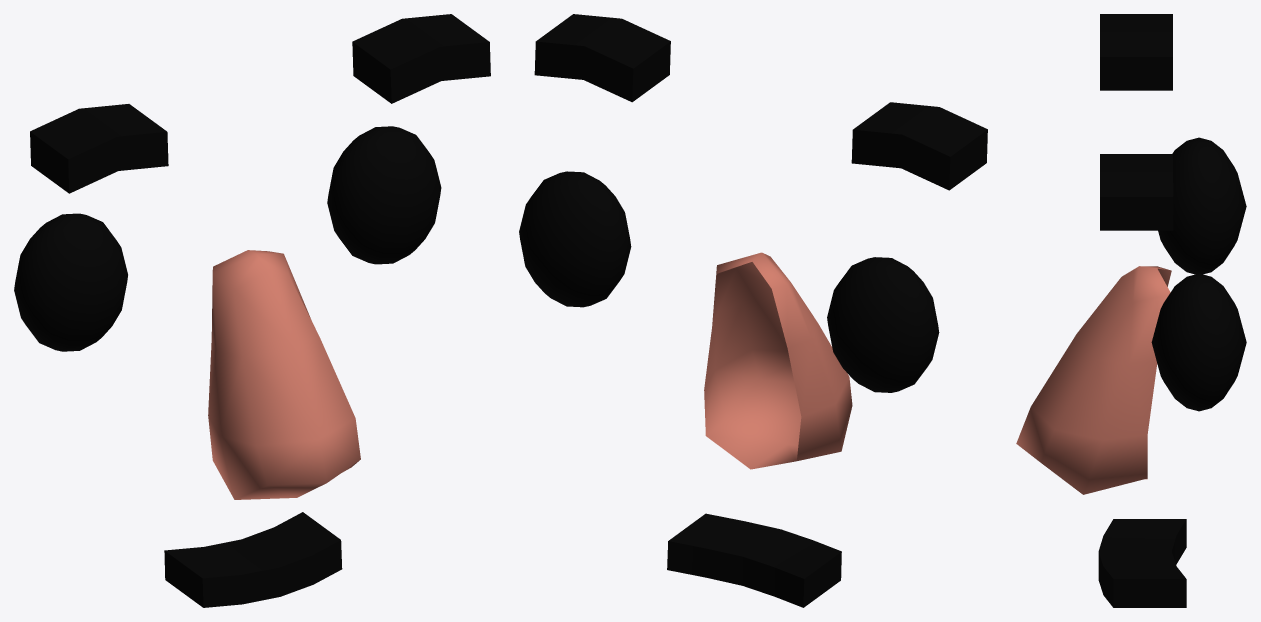
The picture shows the model from 3 angles, left to right: view 1: azimuth 30°, elevation 25°; view 2: azimuth 150°, elevation 25°; view 3: azimuth 270°, elevation 25°; orthographic projection. The views are drawn at different scales.
Parts seen in each view (by area): view 1: nose, Box002, eyebrows, eyebrows002; view 2: nose, Box002, eyebrows, eyebrows002; view 3: nose, Box002, eyebrows, eyebrows002.
Part boxes in pixels (bbox=[...]): nose: bbox=[208, 250, 360, 499]; Box002: bbox=[14, 126, 441, 351]; eyebrows: bbox=[30, 14, 490, 193]; eyebrows002: bbox=[164, 512, 342, 607]; nose: bbox=[704, 252, 852, 469]; Box002: bbox=[519, 171, 939, 392]; eyebrows: bbox=[534, 14, 987, 190]; eyebrows002: bbox=[667, 513, 841, 607]; nose: bbox=[1016, 266, 1171, 494]; Box002: bbox=[1151, 137, 1246, 411]; eyebrows: bbox=[1100, 14, 1173, 230]; eyebrows002: bbox=[1098, 519, 1186, 607].
Size of the model in its own units: 12.77 by 14.75 by 6.3.
